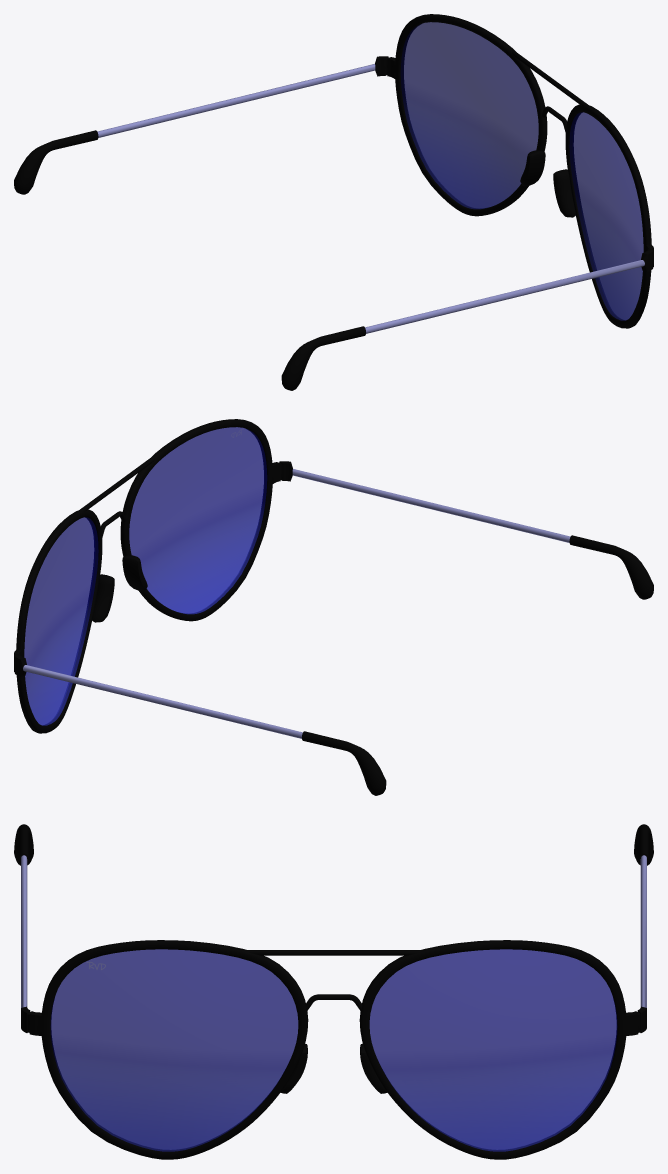
3 views of the same model, one above another, from view 1: azimuth 30°, elevation 25°; view 2: azimuth 150°, elevation 25°; view 3: azimuth 270°, elevation 25° (orthographic). The views are drawn at different scales.
Visible parts, largest first — view 1: Plane; view 2: Plane; view 3: Plane.
Boxes of the visible parts, bbox=[...] form: Plane: bbox=[14, 14, 653, 390]; Plane: bbox=[14, 419, 653, 795]; Plane: bbox=[14, 824, 653, 1159].
Size of the model in its own units: 4.28 by 1.89 by 4.98.
Materials: 1 (1 with a texture image).
